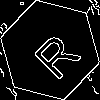R: (25, 25, 82, 82)
